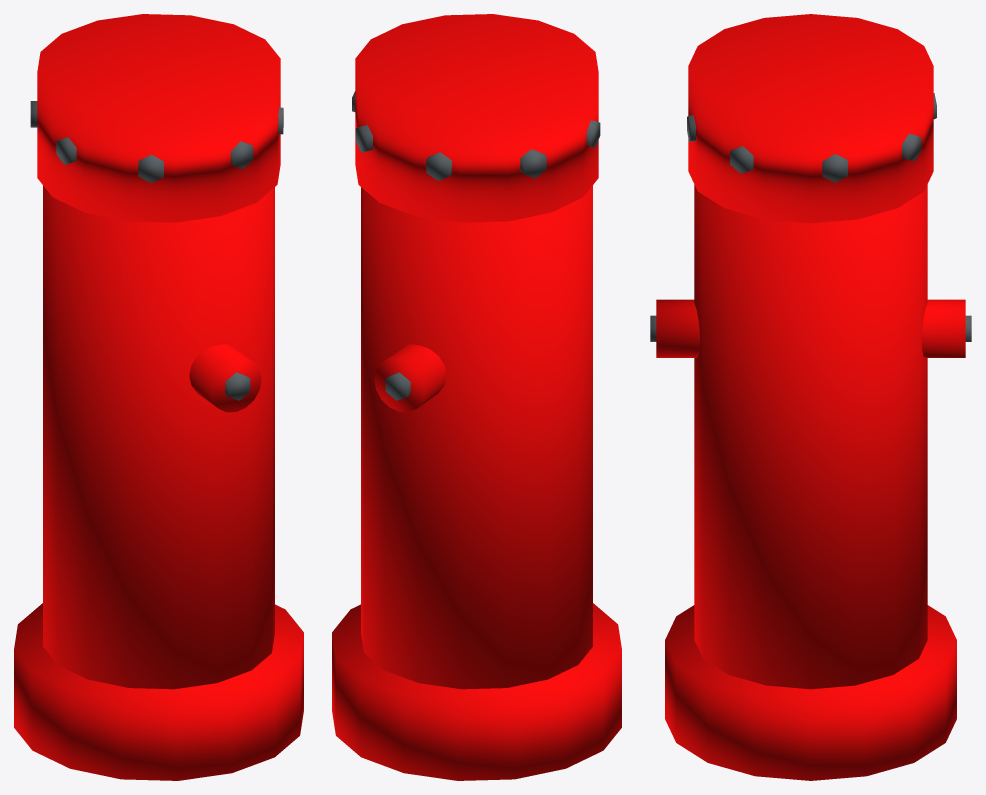
File: Asset1CG.glb
The picture shows the model from 3 angles, left to right: view 1: azimuth 30°, elevation 25°; view 2: azimuth 150°, elevation 25°; view 3: azimuth 270°, elevation 25°; orthographic projection.
Visible parts, largest first — view 1: Hydrant, Deckel, Boden, Schlauchanschluss_1, Mutter_8, Mutter_1; view 2: Hydrant, Deckel, Boden, Schlauchanschluss_2, Mutter_4, Mutter_3, Mutter_2; view 3: Hydrant, Deckel, Boden, Schlauchanschluss_1, Schlauchanschluss_2, Mutter_7.
Boxes of the visible parts, x1=… form: Hydrant: x1=43, y1=185, x2=274, y2=689; Deckel: x1=37, y1=14, x2=280, y2=222; Boden: x1=14, y1=603, x2=303, y2=780; Schlauchanschluss_1: x1=189, y1=344, x2=261, y2=412; Mutter_8: x1=138, y1=154, x2=163, y2=183; Mutter_1: x1=225, y1=372, x2=250, y2=400; Hydrant: x1=361, y1=185, x2=592, y2=689; Deckel: x1=355, y1=14, x2=598, y2=222; Boden: x1=332, y1=603, x2=621, y2=780; Schlauchanschluss_2: x1=374, y1=344, x2=446, y2=412; Mutter_4: x1=520, y1=149, x2=546, y2=178; Mutter_3: x1=426, y1=152, x2=451, y2=180; Mutter_2: x1=385, y1=372, x2=410, y2=400; Hydrant: x1=694, y1=184, x2=927, y2=689; Deckel: x1=688, y1=14, x2=933, y2=223; Boden: x1=665, y1=605, x2=956, y2=780; Schlauchanschluss_1: x1=656, y1=299, x2=699, y2=357; Schlauchanschluss_2: x1=922, y1=299, x2=965, y2=357; Mutter_7: x1=822, y1=154, x2=847, y2=182.
Bounding box in the file's own units: 1 × 2.47 × 1.1.
